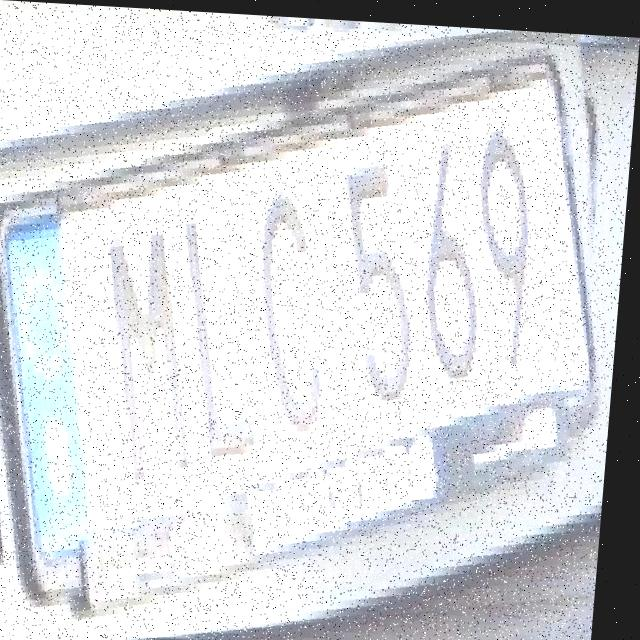LicensePlate: (0, 12, 639, 640)
